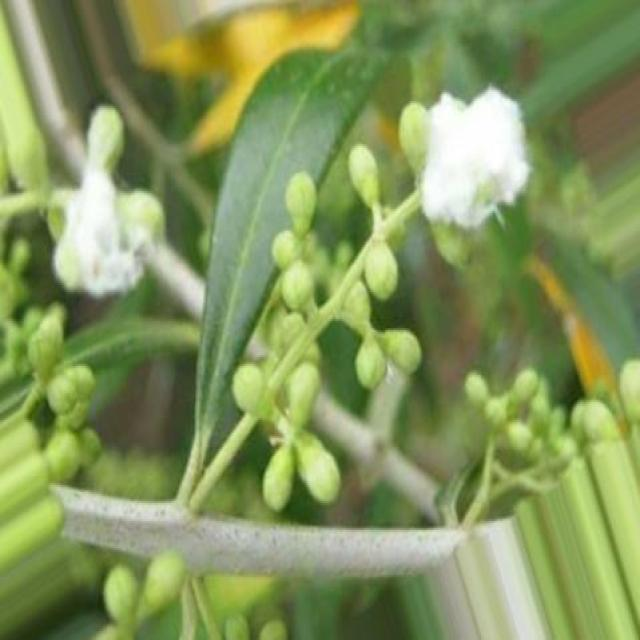Psyllid: (48, 106, 203, 318), (401, 86, 532, 238)
